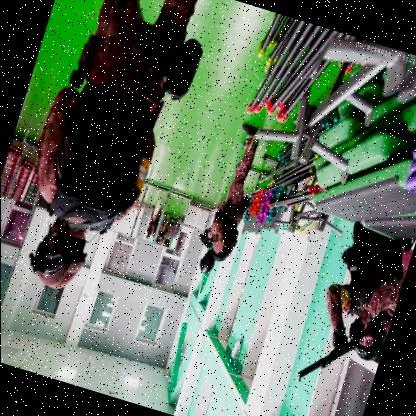rifle: (294, 289, 385, 398), (193, 228, 214, 252)
